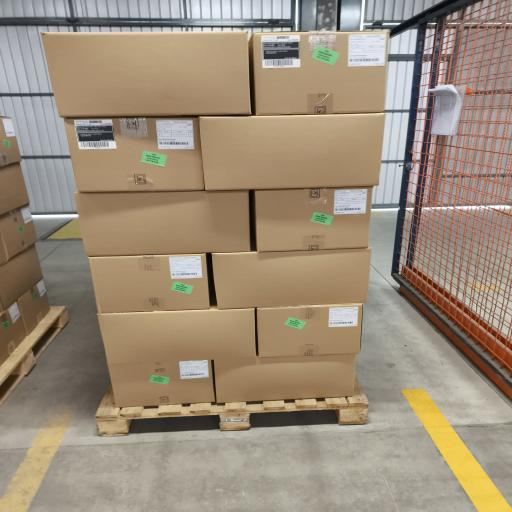pallet: (96, 379, 368, 436), (0, 307, 68, 405)
